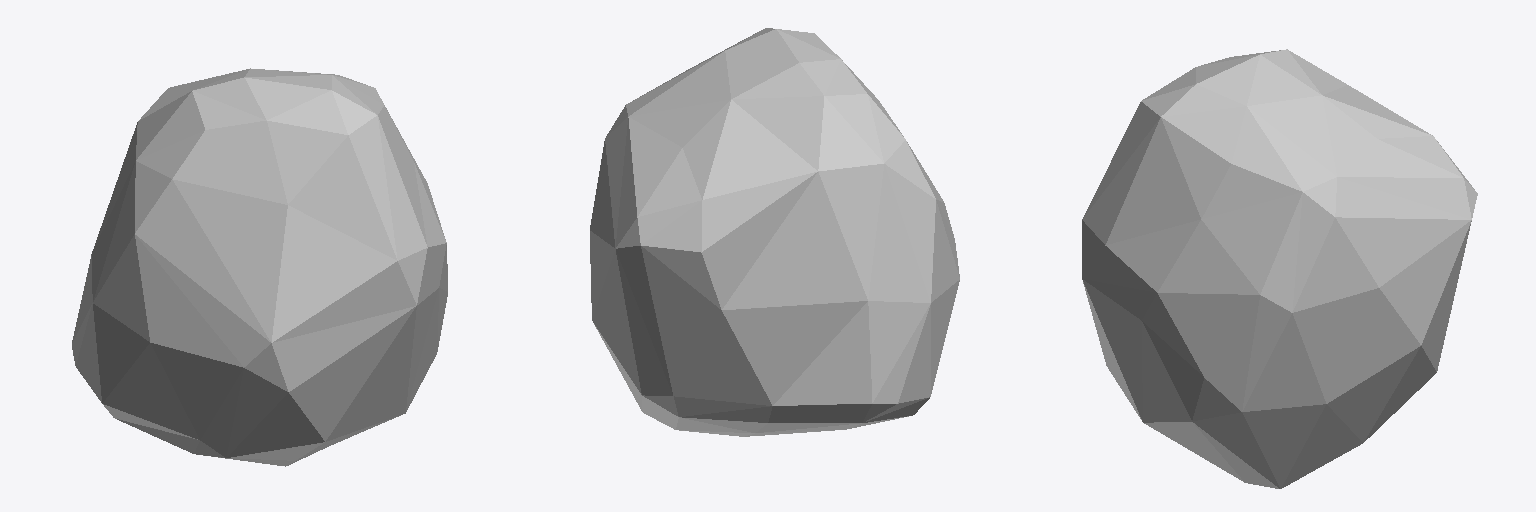
Rendered from asteroid_m.obj.
3 views of the same model, side by side, from view 1: azimuth 30°, elevation 25°; view 2: azimuth 150°, elevation 25°; view 3: azimuth 270°, elevation 25° (orthographic).
Parts seen in each view (by area): view 1: Asteroid_M_1_Icosphere.002; view 2: Asteroid_M_1_Icosphere.002; view 3: Asteroid_M_1_Icosphere.002.
Part boxes in pixels (left/top/right/bottom): Asteroid_M_1_Icosphere.002: left=72, top=68, right=447, bottom=466; Asteroid_M_1_Icosphere.002: left=590, top=28, right=959, bottom=436; Asteroid_M_1_Icosphere.002: left=1082, top=49, right=1477, bottom=488.
Size of the model in its own units: 5.54 by 6.2 by 5.82.